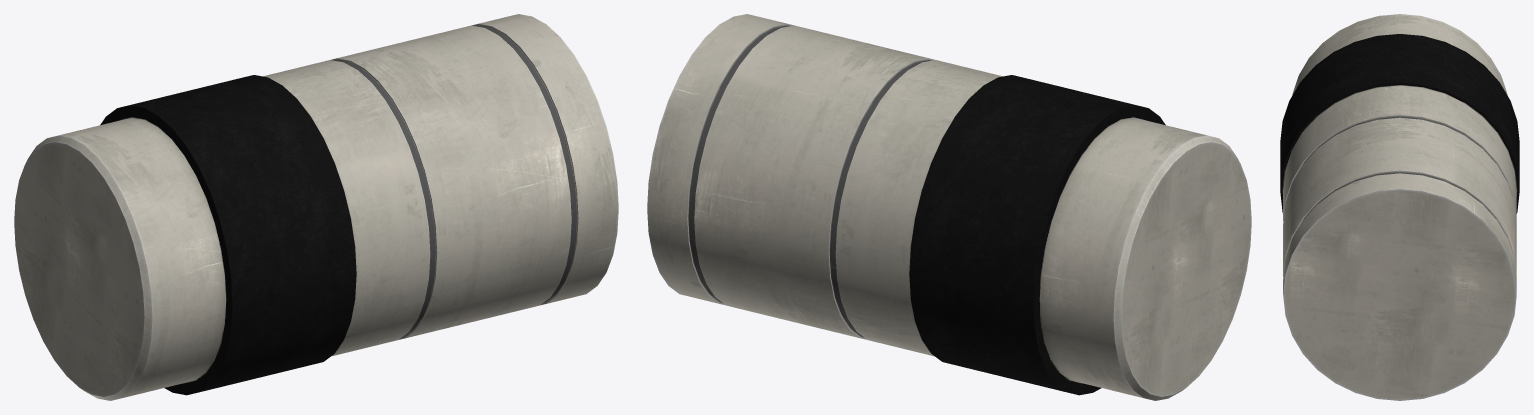
The model's file is pommel_6_c_d.glb.
The picture shows the model from 3 angles, left to right: view 1: azimuth 30°, elevation 25°; view 2: azimuth 150°, elevation 25°; view 3: azimuth 270°, elevation 25°; orthographic projection. The views are drawn at different scales.
Parts seen in each view (by area): view 1: pommel_6_c_d_lod0; view 2: pommel_6_c_d_lod0; view 3: pommel_6_c_d_lod0.
Boxes of the visible parts, left/top/right/bottom form: pommel_6_c_d_lod0: left=14, top=14, right=618, bottom=400; pommel_6_c_d_lod0: left=647, top=14, right=1251, bottom=400; pommel_6_c_d_lod0: left=1280, top=14, right=1519, bottom=400.
Size of what is drawn, in the model's own units: 0.0491 by 0.027 by 0.027.
1 material, 1 textured.
